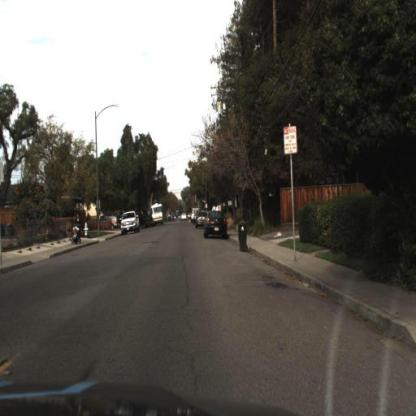car: (204, 210, 228, 238), (120, 211, 140, 236)
pedestrian: (71, 211, 83, 247)
truck: (150, 202, 166, 227)
